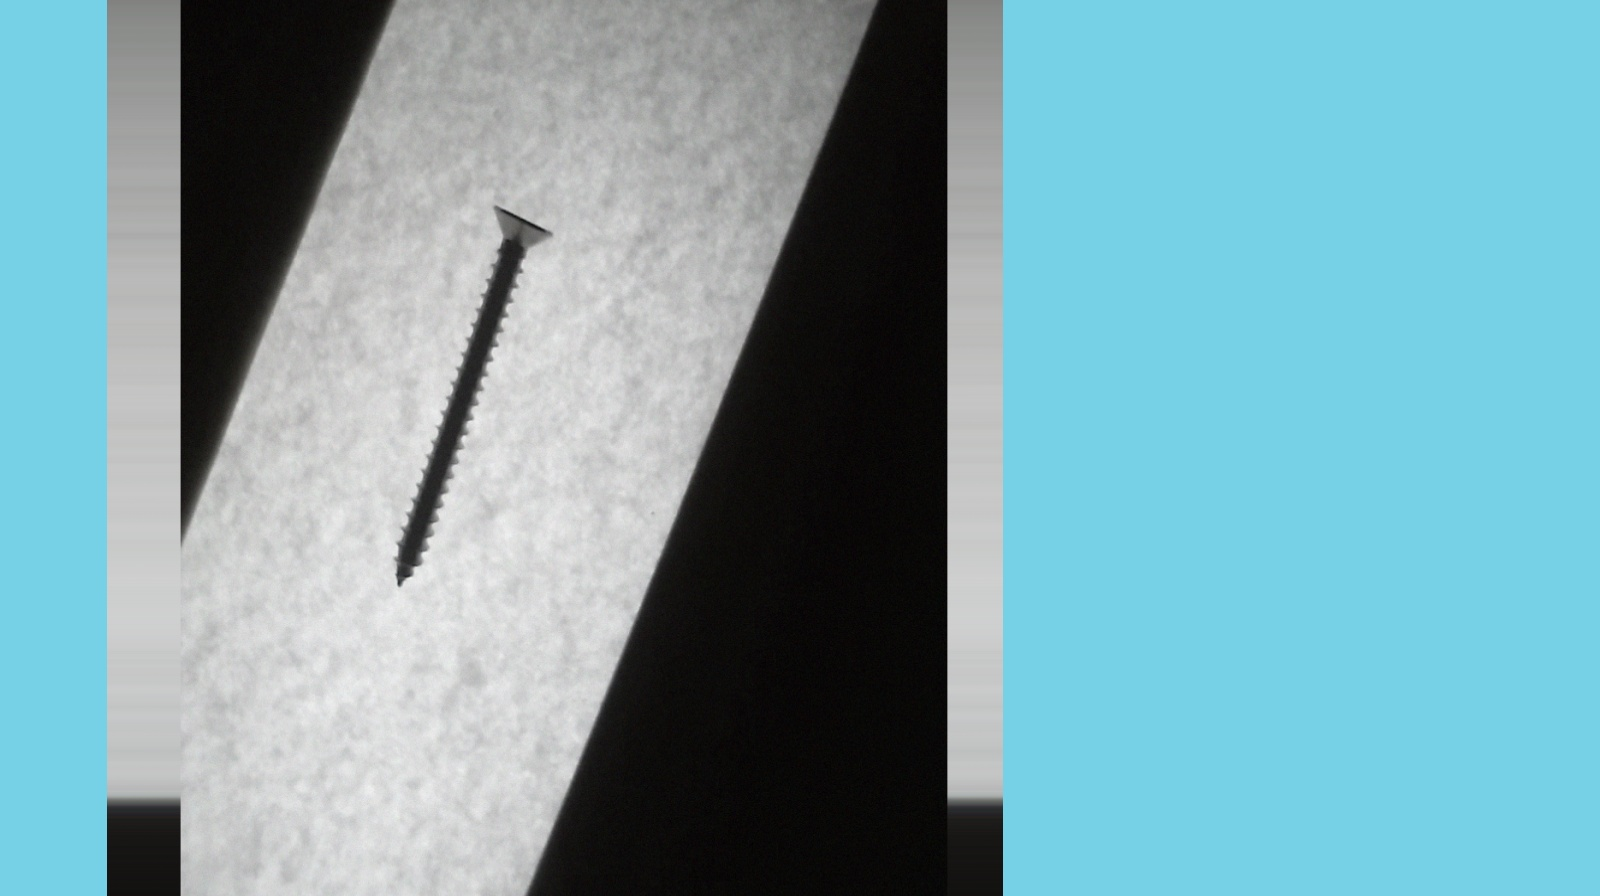S002: (384, 193, 554, 590)
